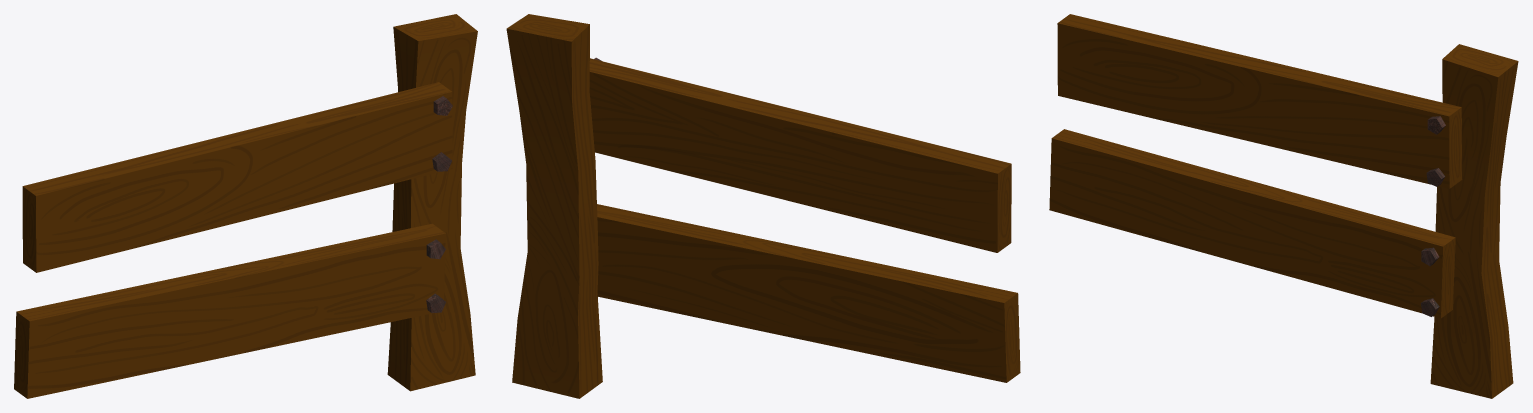
Rendered from Fence_Right.fbx.
3 views of the same model, side by side, from view 1: azimuth 30°, elevation 25°; view 2: azimuth 150°, elevation 25°; view 3: azimuth 330°, elevation 25° (orthographic). The views are drawn at different scales.
Visible parts, largest first — view 1: pCube11; view 2: pCube11; view 3: pCube11.
Boxes of the visible parts, x1=… form: pCube11: x1=14, y1=14, x2=477, y2=398; pCube11: x1=506, y1=14, x2=1020, y2=398; pCube11: x1=1049, y1=14, x2=1518, y2=398.
Size of the model in its own units: 5.44 by 3.88 by 0.7896.
2 materials, 2 textured.
